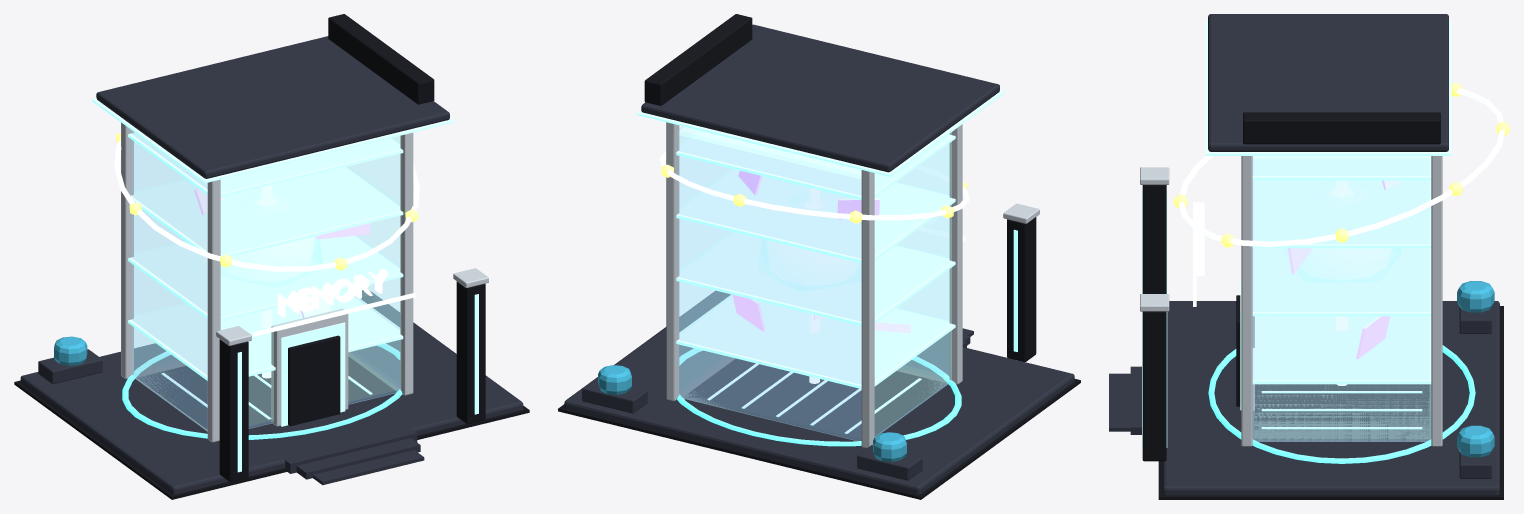
Rendered from memory-house-CFcvkF-v.glb.
3 views of the same model, side by side, from view 1: azimuth 30°, elevation 25°; view 2: azimuth 150°, elevation 25°; view 3: azimuth 270°, elevation 25° (orthographic). The views are drawn at different scales.
Visible parts, largest first — view 1: monolith, plinth.001, roof_slab.001, band_2, band_1, band_0, door.001, band_3, roof_fin, pylon_r, pylon_l, core_halo (+19 smaller); view 2: monolith, plinth.001, roof_slab.001, band_0, band_2, band_1, band_3, core_halo, roof_fin, column_lb, column_rb, pylon_l (+12 smaller); view 3: monolith, plinth.001, roof_slab.001, band_0, band_2, band_1, roof_fin, band_3, core_halo, pylon_r, halo, column_rf (+20 smaller).
Part boxes in pixels (x1=…): monolith: x1=132, y1=131, x2=400, y2=431; plinth.001: x1=20, y1=292, x2=523, y2=494; roof_slab.001: x1=96, y1=36, x2=449, y2=178; band_2: x1=131, y1=166, x2=403, y2=256; band_1: x1=128, y1=235, x2=403, y2=321; band_0: x1=128, y1=291, x2=403, y2=380; door.001: x1=288, y1=335, x2=340, y2=426; band_3: x1=128, y1=132, x2=403, y2=197; roof_fin: x1=328, y1=14, x2=434, y2=104; pylon_r: x1=456, y1=281, x2=485, y2=424; pylon_l: x1=219, y1=339, x2=248, y2=481; core_halo: x1=221, y1=188, x2=322, y2=286; monolith: x1=678, y1=126, x2=951, y2=441; plinth.001: x1=564, y1=291, x2=1074, y2=494; roof_slab.001: x1=641, y1=24, x2=999, y2=172; band_0: x1=676, y1=294, x2=955, y2=388; band_2: x1=676, y1=168, x2=955, y2=262; band_1: x1=676, y1=231, x2=955, y2=325; band_3: x1=676, y1=130, x2=955, y2=200; core_halo: x1=758, y1=191, x2=860, y2=290; roof_fin: x1=644, y1=14, x2=752, y2=105; column_lb: x1=861, y1=170, x2=874, y2=448; column_rb: x1=666, y1=122, x2=679, y2=401; pylon_l: x1=1007, y1=217, x2=1036, y2=361; monolith: x1=1252, y1=156, x2=1431, y2=441; plinth.001: x1=1162, y1=301, x2=1499, y2=495; roof_slab.001: x1=1208, y1=14, x2=1448, y2=151; band_0: x1=1252, y1=316, x2=1431, y2=384; band_2: x1=1252, y1=180, x2=1431, y2=248; band_1: x1=1252, y1=248, x2=1431, y2=316; roof_fin: x1=1243, y1=112, x2=1440, y2=144; band_3: x1=1252, y1=156, x2=1431, y2=180; core_halo: x1=1283, y1=181, x2=1400, y2=281; pylon_r: x1=1142, y1=311, x2=1166, y2=461; halo: x1=1174, y1=83, x2=1509, y2=247; column_rf: x1=1241, y1=156, x2=1252, y2=446.
Bounding box in the file's own units: 16.9 × 14.4 × 14.97.
